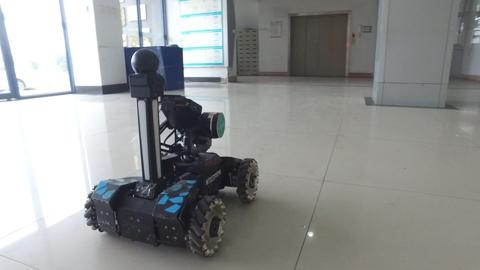chariot: (64, 48, 266, 259)
